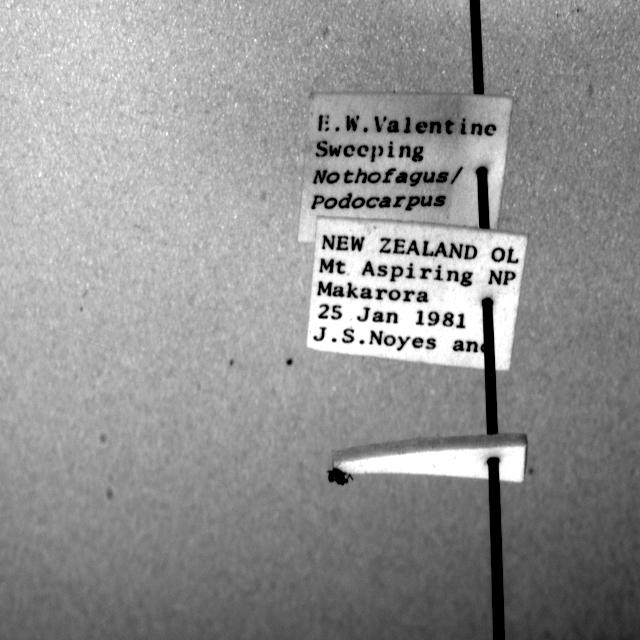typed_label: (308, 218, 528, 369), (299, 92, 512, 242)
